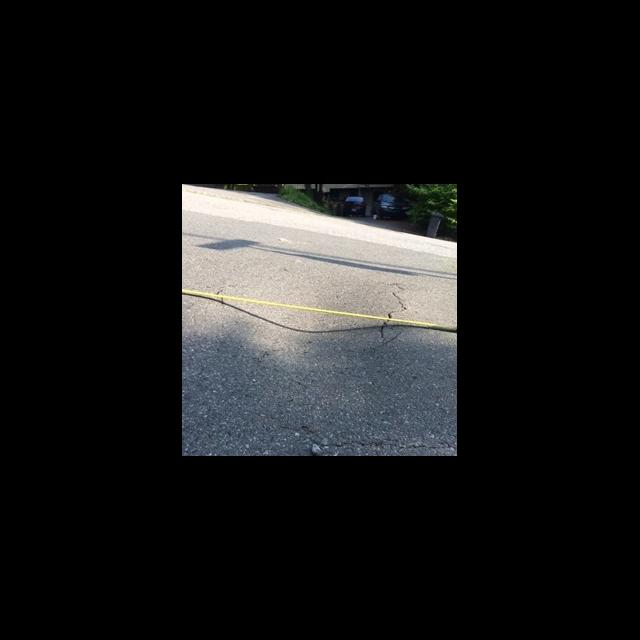retak_memanjang: (371, 274, 416, 344)
